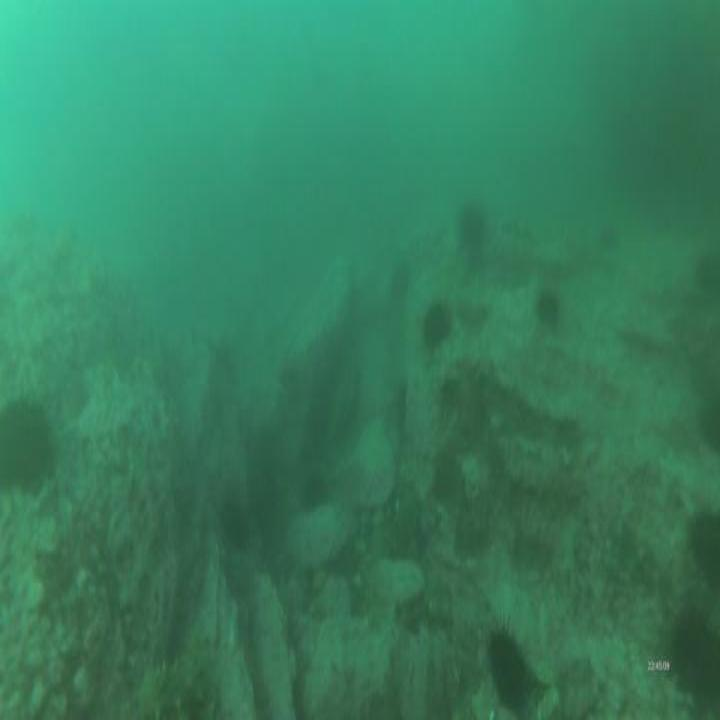echinus: (0, 391, 59, 498), (664, 594, 720, 706), (482, 617, 537, 720), (685, 492, 720, 585), (216, 487, 252, 555), (452, 194, 489, 260), (418, 295, 454, 361), (430, 446, 463, 507), (691, 241, 720, 308), (296, 466, 332, 517), (533, 282, 565, 332)
